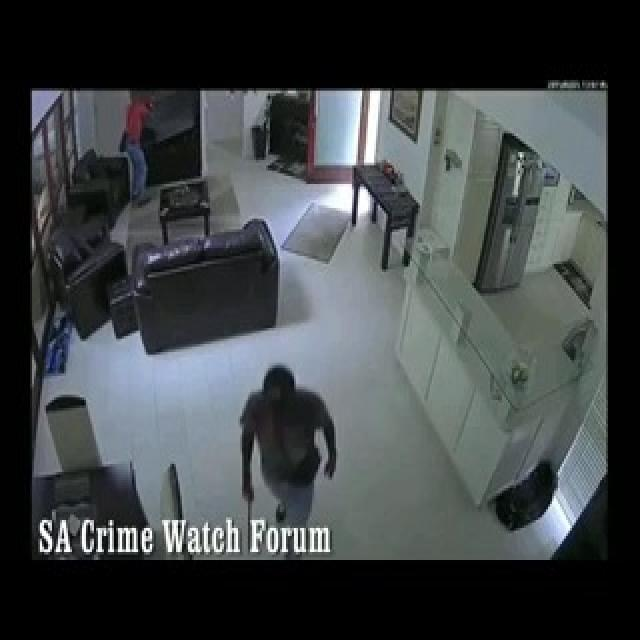thief: (238, 355, 334, 516), (121, 102, 163, 212)
